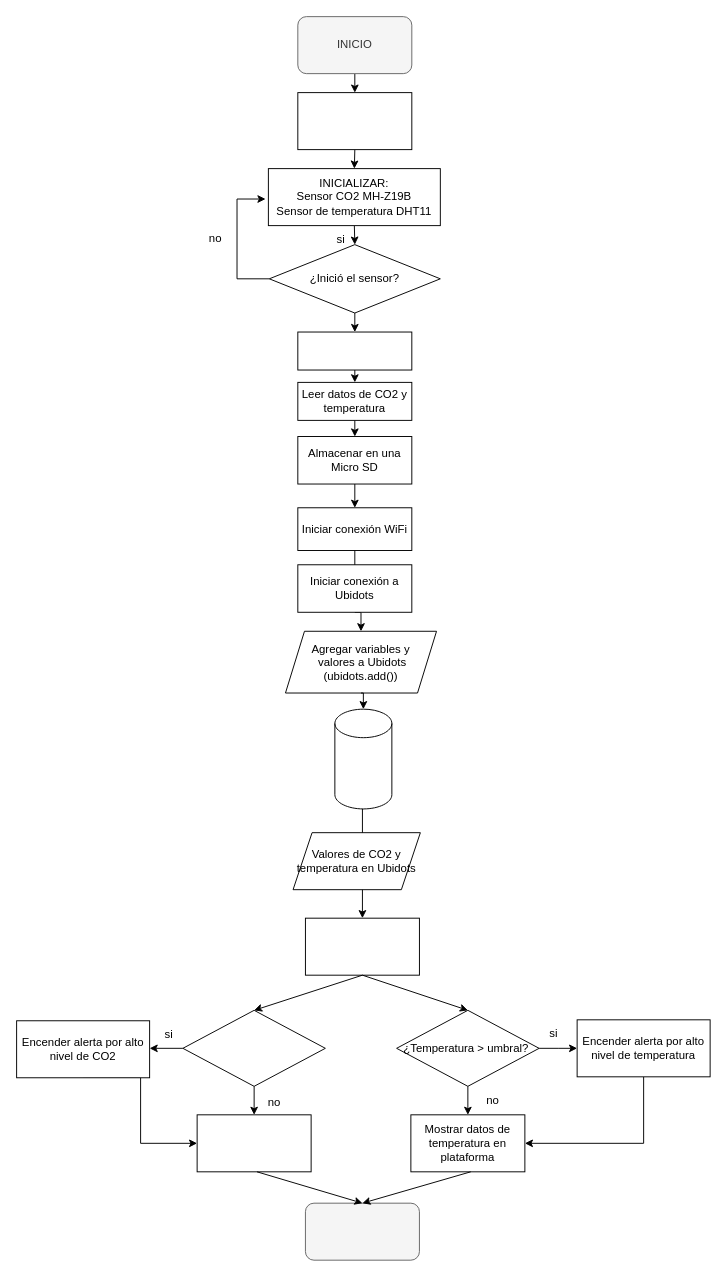
Some shapes in this 727 by 1277 pixel diagram are drawn without their labels. The box of each missing label's shape, as (x1, y1, x2, y2) in pixels:
Calibrar: (297, 331, 412, 370)
Comparar con límites máximos de CO2 y temperatura: (304, 917, 419, 975)
Configurar pines y parámetros: (297, 92, 412, 150)
FIN: (304, 1202, 419, 1260)
Mostrar datos de CO2 en la plataforma: (196, 1114, 311, 1172)
Ubidots: (334, 708, 392, 809)
¿CO2 > umbral?: (182, 1009, 325, 1086)
